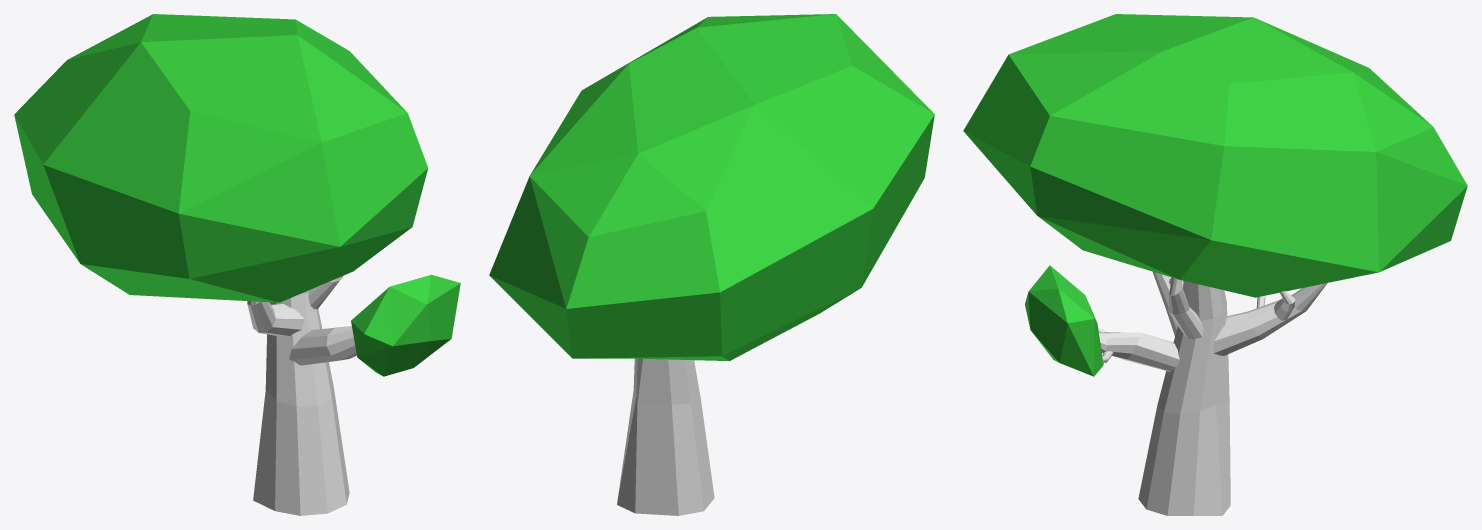
File: leaftree08.fbx
The picture shows the model from 3 angles, left to right: view 1: azimuth 30°, elevation 25°; view 2: azimuth 150°, elevation 25°; view 3: azimuth 270°, elevation 25°; orthographic projection. The views are drawn at different scales.
Visible parts, largest first — view 1: Sphere.001; view 2: Sphere.001; view 3: Sphere.001.
Part boxes in pixels (left/top/right/bottom): Sphere.001: left=14, top=14, right=460, bottom=515; Sphere.001: left=489, top=14, right=934, bottom=515; Sphere.001: left=963, top=14, right=1467, bottom=515.
Bounding box in the file's own units: 185 × 244 × 252.
